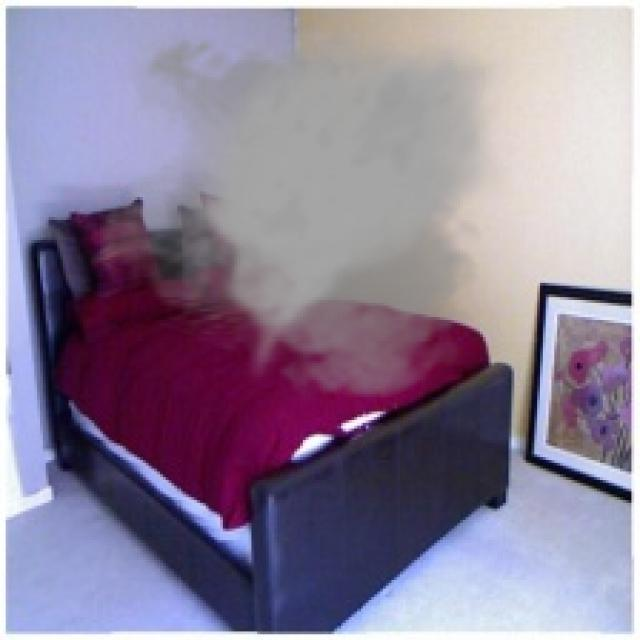Smoke: (100, 26, 512, 403)
